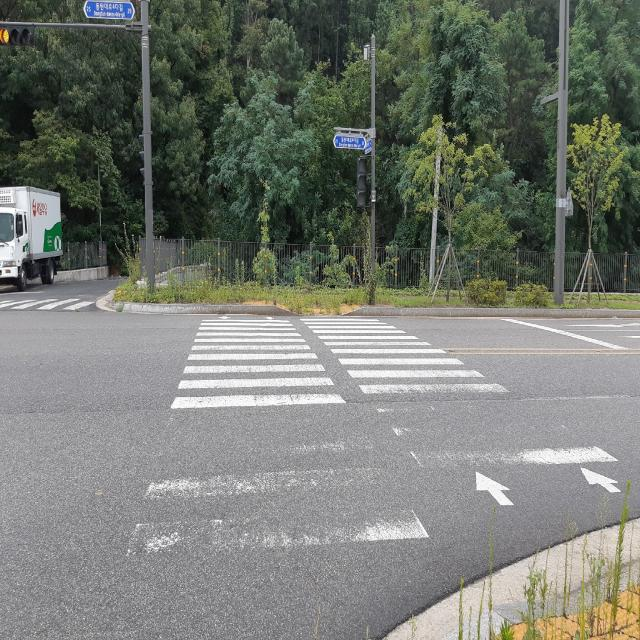횡단보도: (127, 314, 622, 560)
